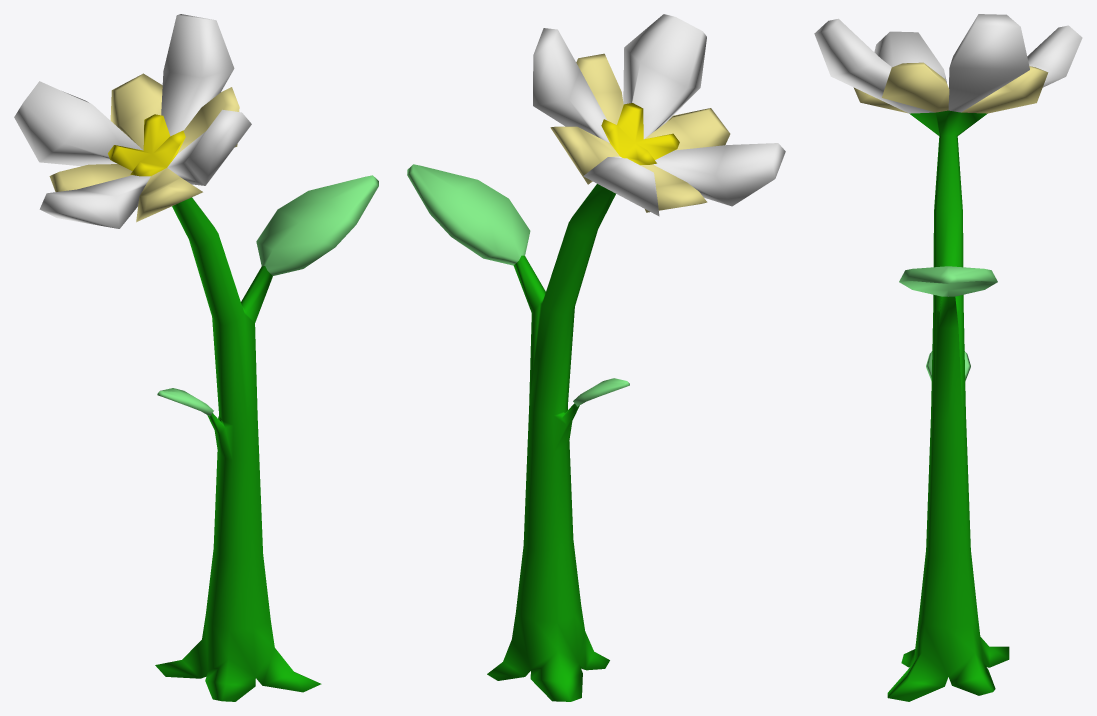
The model's file is Flower.fbx.
The picture shows the model from 3 angles, left to right: view 1: azimuth 30°, elevation 25°; view 2: azimuth 150°, elevation 25°; view 3: azimuth 270°, elevation 25°; orthographic projection.
Visible parts, largest first — view 1: Cube; view 2: Cube; view 3: Cube.
Part boxes in pixels (bbox=[...]): Cube: bbox=[14, 14, 378, 701]; Cube: bbox=[407, 14, 785, 701]; Cube: bbox=[814, 14, 1082, 701].
Size of the model in its own units: 54.92 by 98.01 by 36.4.
